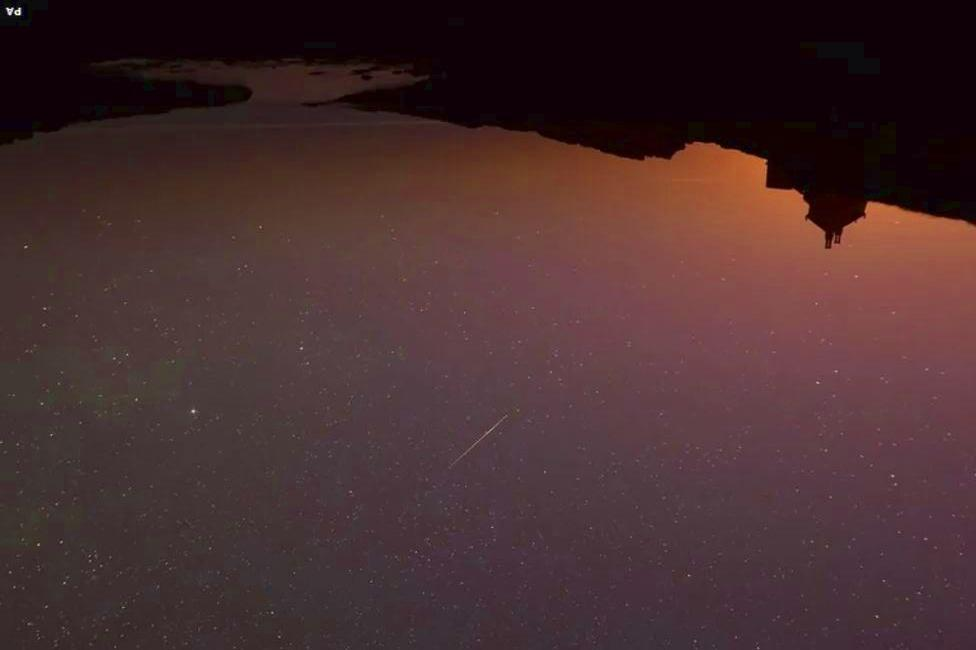meteorite: (434, 410, 519, 470)
